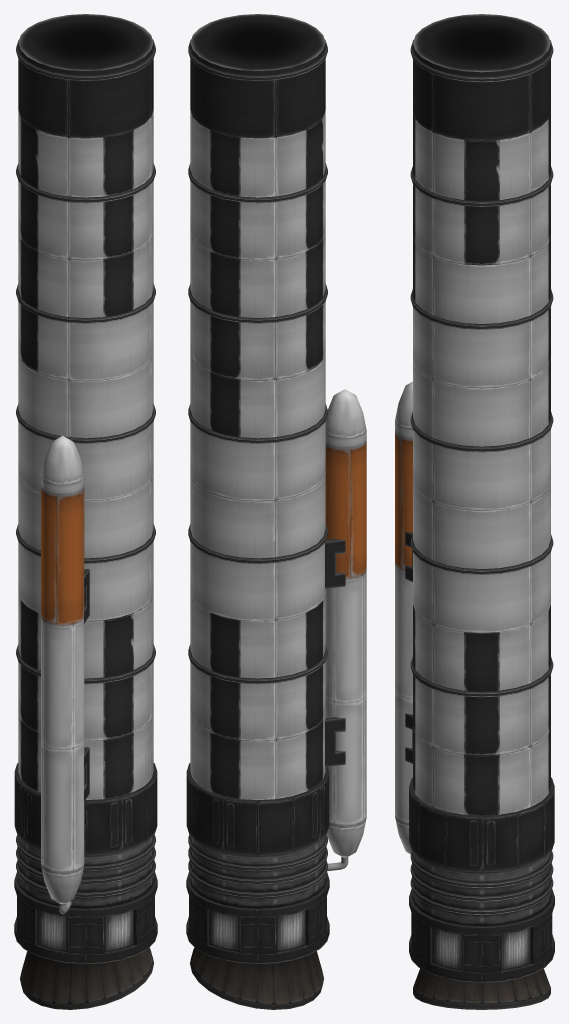
The model's file is Titan_SRB_5seg.dae.
3 renders of one model, left to right at view 1: azimuth 30°, elevation 25°; view 2: azimuth 150°, elevation 25°; view 3: azimuth 270°, elevation 25°, orthographic.
Visible parts, largest first — view 1: SRB_5segMerge; view 2: SRB_5segMerge; view 3: SRB_5segMerge.
Part boxes in pixels (box(x1,y1,x2,y2)): SRB_5segMerge: box(14, 14, 157, 1009); SRB_5segMerge: box(186, 14, 366, 1009); SRB_5segMerge: box(395, 14, 554, 1009).
Bounding box in the file's own units: 2.17 × 14.45 × 2.17.
